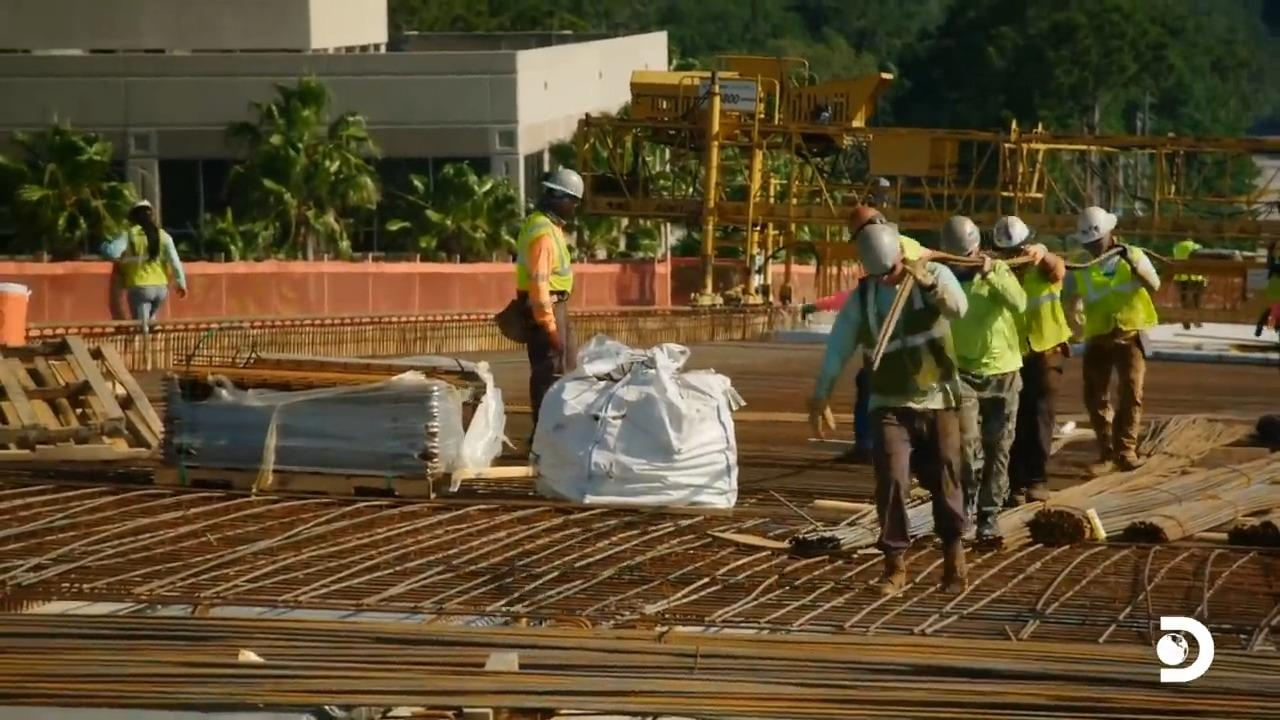Gloves: (803, 401, 842, 442), (906, 257, 936, 287), (547, 324, 571, 355)
Helmet: (855, 221, 900, 276), (939, 215, 981, 258), (1074, 205, 1117, 244), (539, 167, 584, 199), (992, 215, 1029, 248), (130, 199, 156, 212)
Person: (805, 215, 970, 596), (1059, 205, 1161, 472), (511, 167, 585, 448), (115, 199, 187, 333)
Safety Boot: (1114, 446, 1138, 480), (873, 571, 904, 596), (979, 517, 1006, 541), (1028, 480, 1060, 500), (942, 565, 970, 584)
Safety Vest: (856, 294, 953, 401), (954, 294, 1014, 366), (1086, 270, 1150, 336), (513, 217, 566, 294), (1015, 266, 1062, 350), (127, 236, 174, 286)
